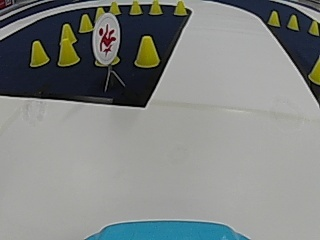cone: (134, 35, 160, 69), (57, 41, 79, 66), (28, 40, 48, 67), (307, 57, 319, 86), (78, 13, 91, 32), (267, 9, 280, 27), (173, 0, 187, 15), (287, 13, 299, 30), (149, 0, 162, 15), (129, 0, 142, 15), (108, 0, 120, 15), (308, 20, 318, 36)
tumble: (96, 17, 120, 58)
